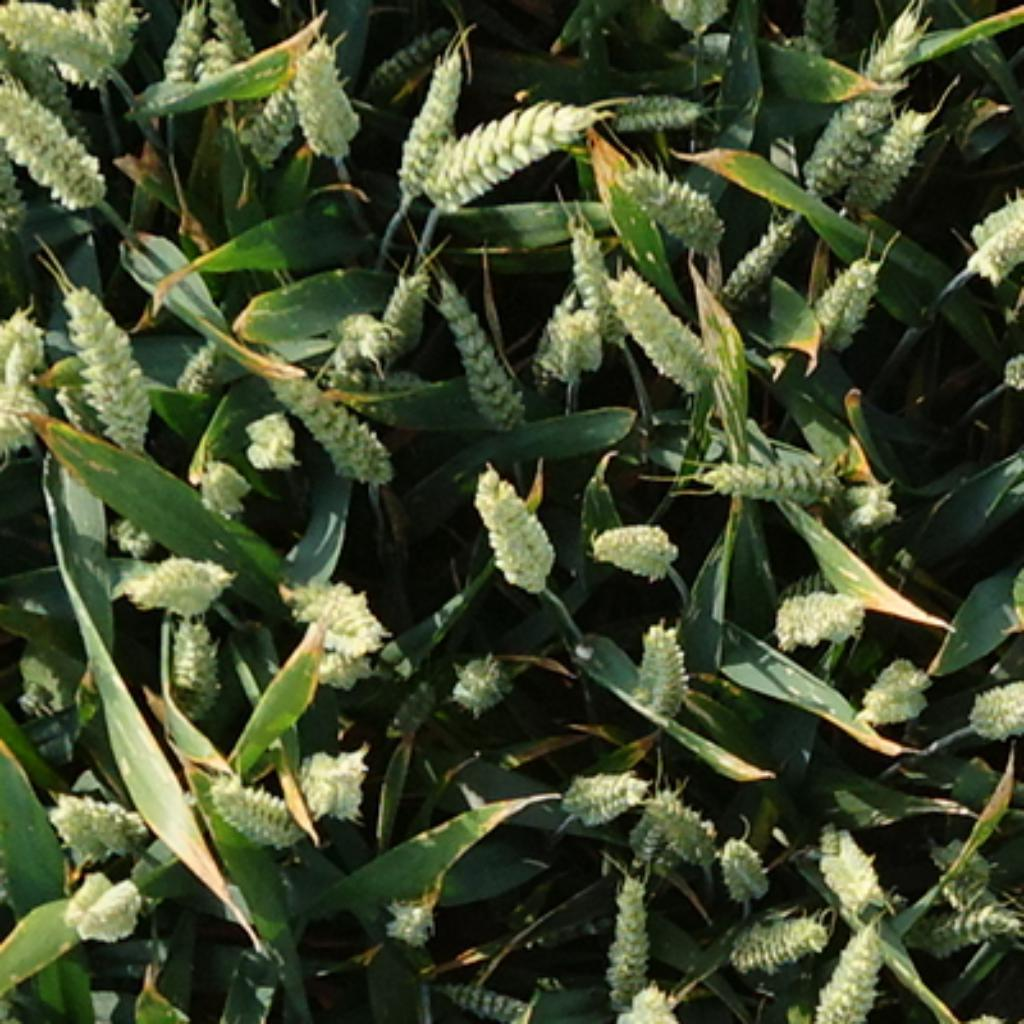0-0: (804, 0, 927, 196), (422, 102, 606, 212), (266, 363, 396, 494), (61, 276, 148, 460), (432, 271, 532, 430), (2, 71, 107, 215), (606, 263, 719, 394), (394, 38, 471, 204), (609, 153, 734, 253), (468, 468, 563, 599), (842, 102, 934, 222), (286, 33, 366, 166), (691, 437, 849, 504), (1, 46, 96, 151), (896, 883, 1021, 960), (197, 770, 307, 857), (2, 2, 115, 81), (808, 919, 890, 1024), (110, 552, 238, 616), (289, 576, 389, 657), (806, 245, 885, 345), (363, 12, 458, 94), (238, 69, 312, 174), (565, 215, 622, 350), (727, 202, 806, 296), (527, 289, 606, 381), (719, 898, 824, 967), (601, 867, 657, 995), (58, 870, 151, 944), (156, 616, 225, 714), (808, 816, 883, 906), (632, 619, 698, 721), (289, 752, 371, 832), (581, 506, 678, 573), (852, 655, 931, 732), (964, 186, 1024, 287), (773, 588, 870, 650), (642, 788, 716, 867), (558, 757, 650, 819), (48, 791, 122, 867), (320, 307, 394, 376), (604, 87, 709, 135), (629, 780, 680, 878), (194, 458, 263, 527), (376, 263, 432, 348), (440, 650, 509, 716), (826, 465, 898, 527), (2, 368, 48, 465), (965, 675, 1024, 747), (611, 970, 688, 1024), (931, 839, 998, 901), (711, 826, 770, 896), (174, 332, 238, 396), (299, 650, 394, 691), (240, 396, 296, 465), (163, 2, 207, 89), (2, 302, 48, 381), (378, 885, 440, 942), (89, 2, 138, 69), (94, 798, 151, 855), (204, 2, 261, 56), (189, 33, 237, 87), (806, 0, 850, 58), (773, 568, 839, 606), (107, 517, 153, 555)
